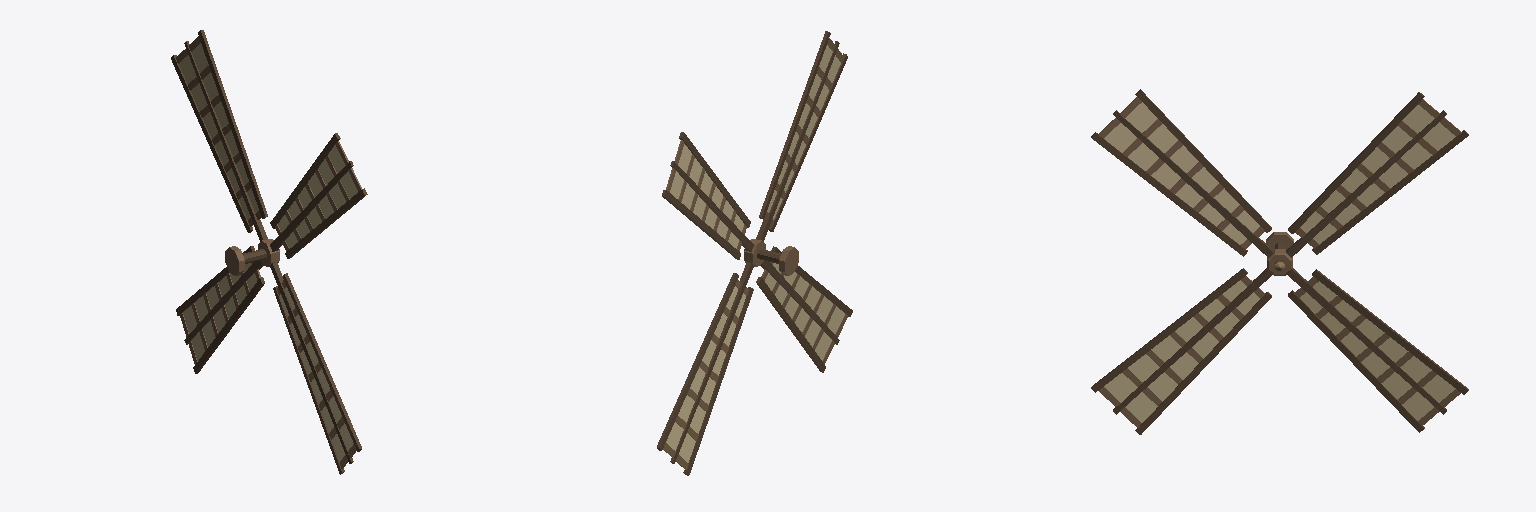
File: Wall_Prop_Windmill_1.obj
3 views of the same model, side by side, from view 1: azimuth 30°, elevation 25°; view 2: azimuth 150°, elevation 25°; view 3: azimuth 270°, elevation 25° (orthographic).
Visible parts, largest first — view 1: windmill; view 2: windmill; view 3: windmill.
Part boxes in pixels (bbox=[...]): windmill: bbox=[171, 30, 367, 474]; windmill: bbox=[657, 31, 852, 475]; windmill: bbox=[1091, 89, 1468, 434].
Bounding box in the file's own units: 1.02 × 7 × 7.